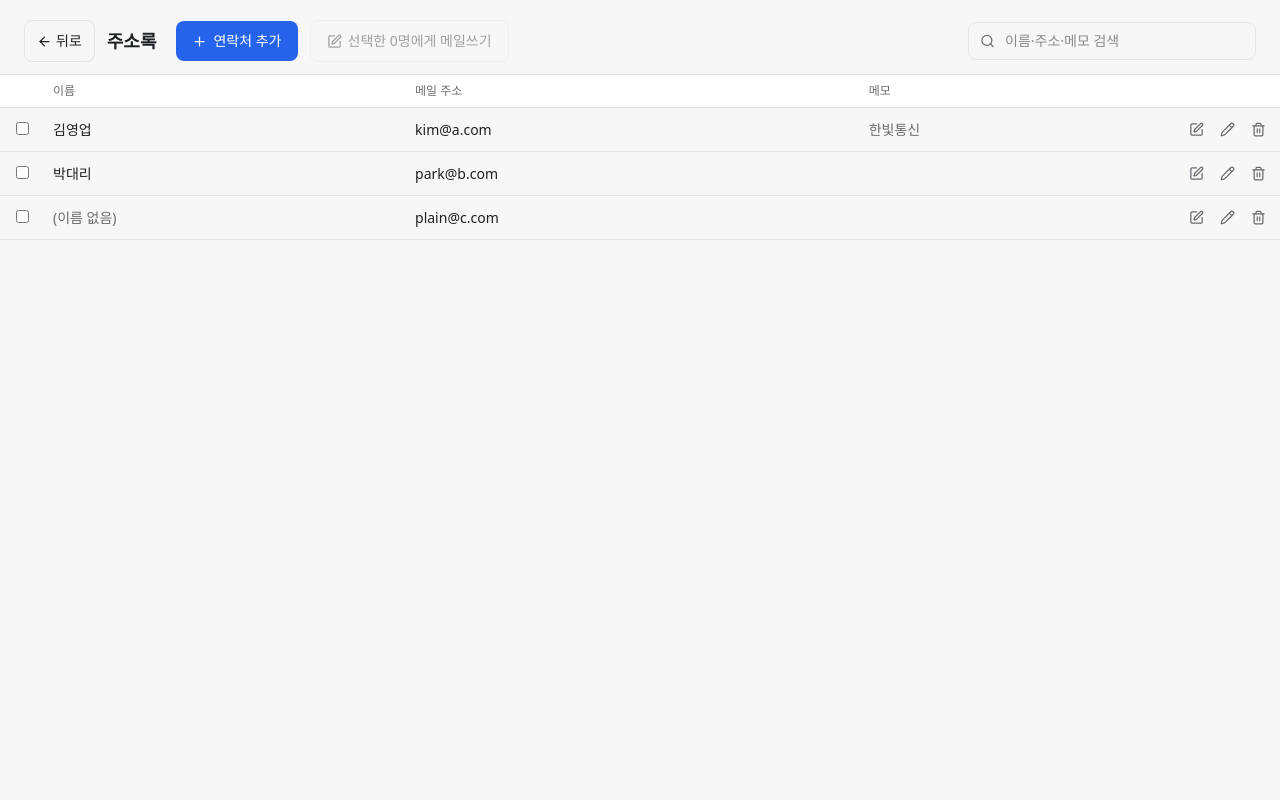
Test: 주소록 화면 › [수정]은 기존 값을 채워 열고, 주소를 바꾸면 예전 주소를 함께 알린다
The image size is (1280, 800).
Expected: the text "김영업" is shown, [45,108,407,152]
Click the button named "김영업 수정" at (1228,130), box [1214,116,1241,143]
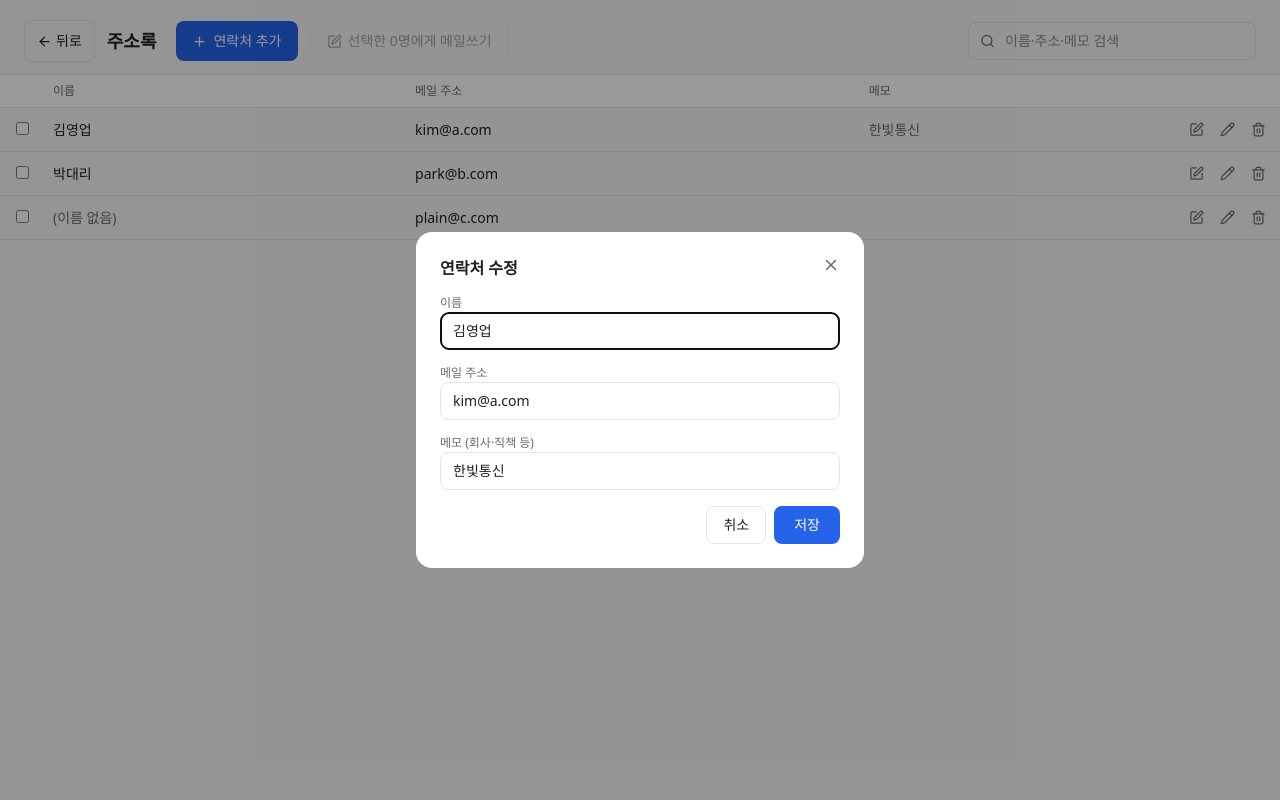
Replace the text in the field labelled "메일 주소" with "kim@new.com" at (640,401), box [440,382,840,420]
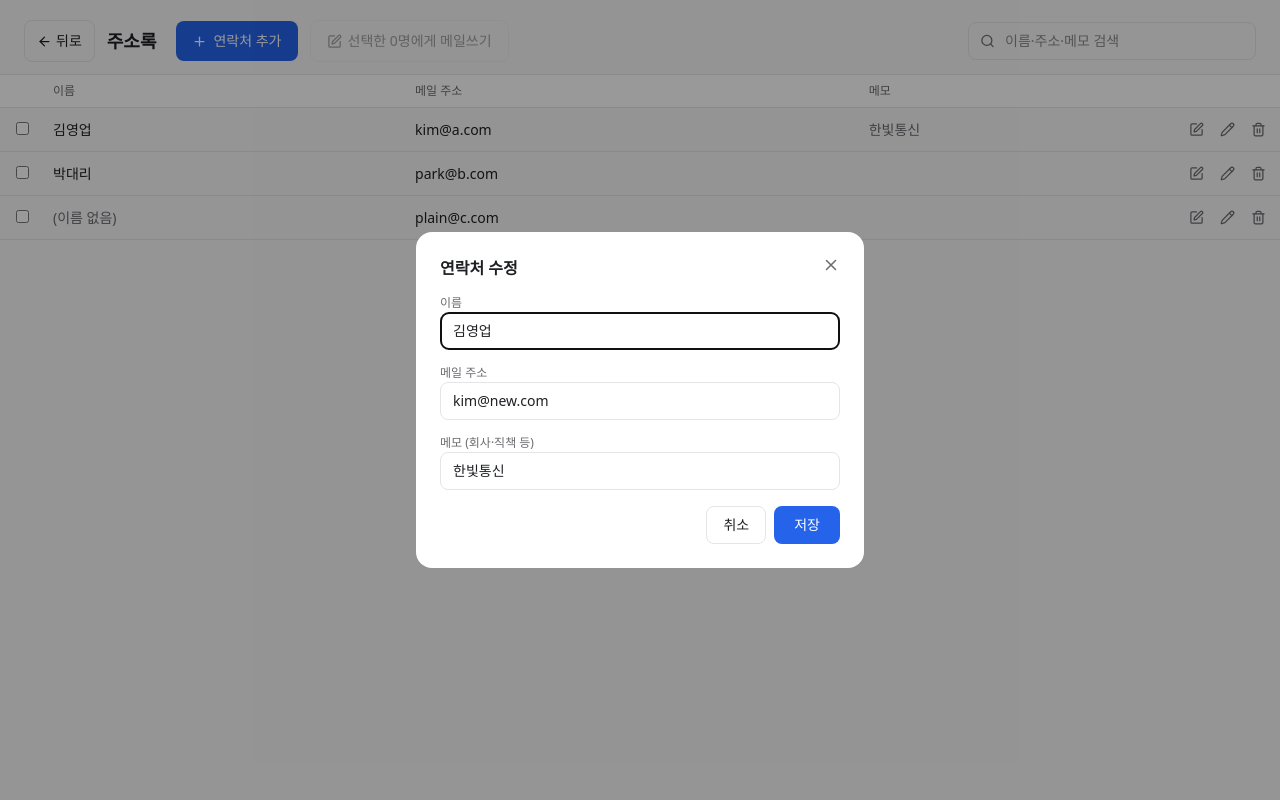
Click the button "저장" at (807,525), box [774,506,840,544]
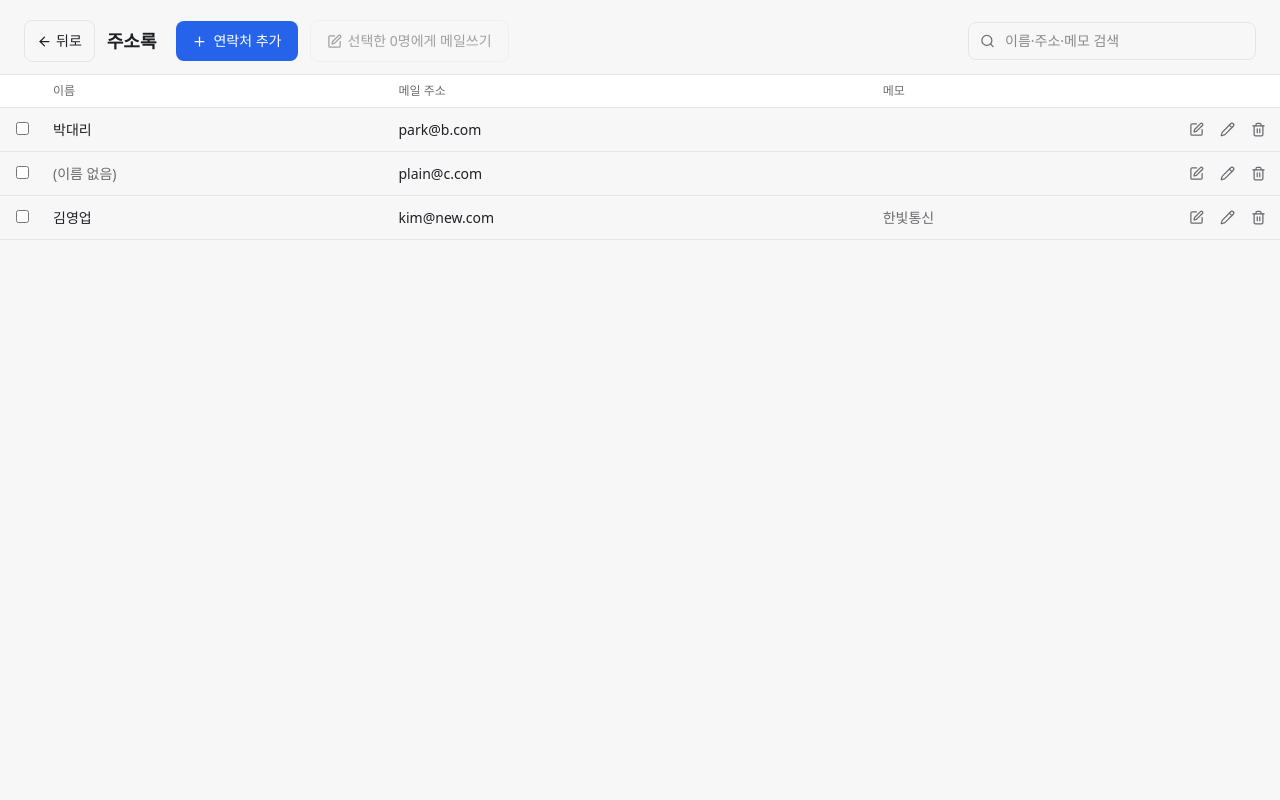
Result: the text "kim@new.com" is shown at [390,196,875,240]
Result: the text "kim@a.com" is gone
